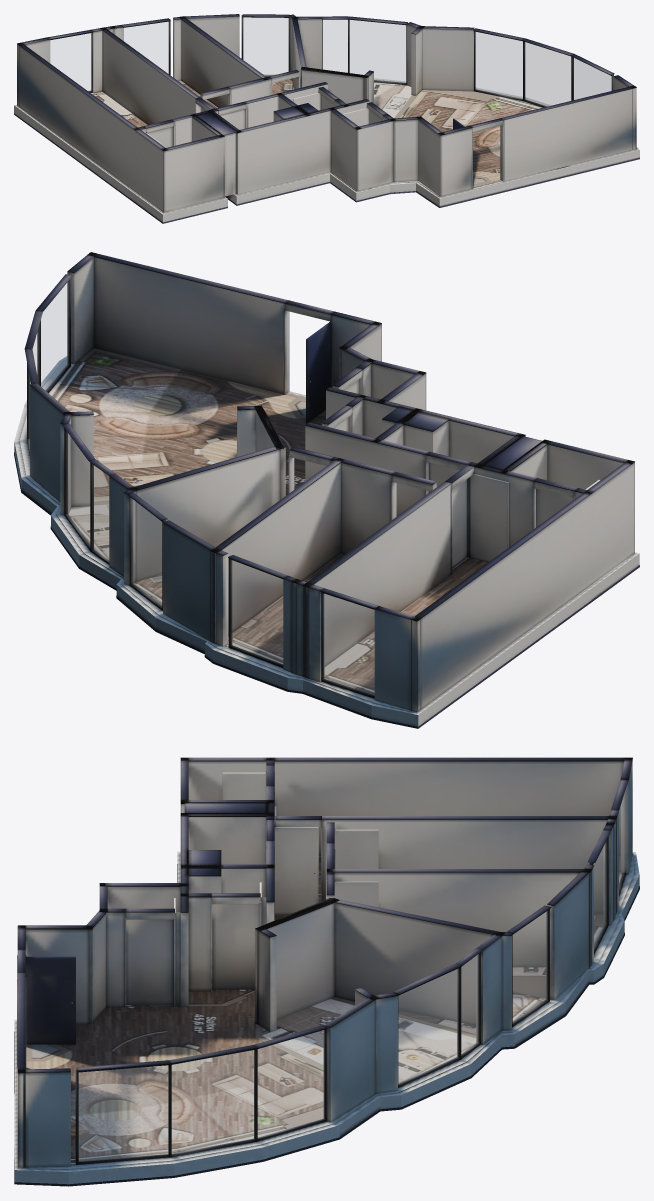
The picture shows the model from 3 angles, top to bottom: view 1: azimuth 30°, elevation 25°; view 2: azimuth 150°, elevation 25°; view 3: azimuth 270°, elevation 25°; orthographic projection. The views are drawn at different scales.
Visible parts, largest first — view 1: plan, glass4_m, glass5_m, glass6_m, glass2_m, glass0_m, glass1_m, glass3_m, glass7_m; view 2: plan, glass0_m, glass1_m, glass2_m, glass7_m, glass4_m, glass3_m; view 3: plan, glass7_m, glass6_m, glass5_m, glass4_m, glass2_m, glass3_m, glass1_m.
Part boxes in pixels (x1,y1,x2,y2): plan: (14,14,639,223); glass4_m: (350,20,405,82); glass5_m: (475,32,522,98); glass6_m: (525,42,570,106); glass2_m: (243,17,288,75); glass0_m: (50,33,91,91); glass1_m: (123,22,168,73); glass3_m: (323,20,347,72); glass7_m: (573,58,611,99); plan: (14,252,639,728); glass0_m: (323,593,374,695); glass1_m: (231,560,282,664); glass2_m: (131,498,161,606); glass7_m: (41,281,68,390); glass4_m: (66,431,89,545); glass3_m: (93,465,108,560); plan: (14,757,639,1186); glass7_m: (79,1065,168,1161); glass6_m: (172,1050,254,1153); glass5_m: (258,1030,324,1137); glass4_m: (398,969,458,1084); glass2_m: (513,911,547,1022); glass3_m: (461,954,478,1054); glass1_m: (593,841,606,948).
Bounding box in the file's own units: 16.38 × 2.62 × 13.52.
2 materials, 1 textured.
